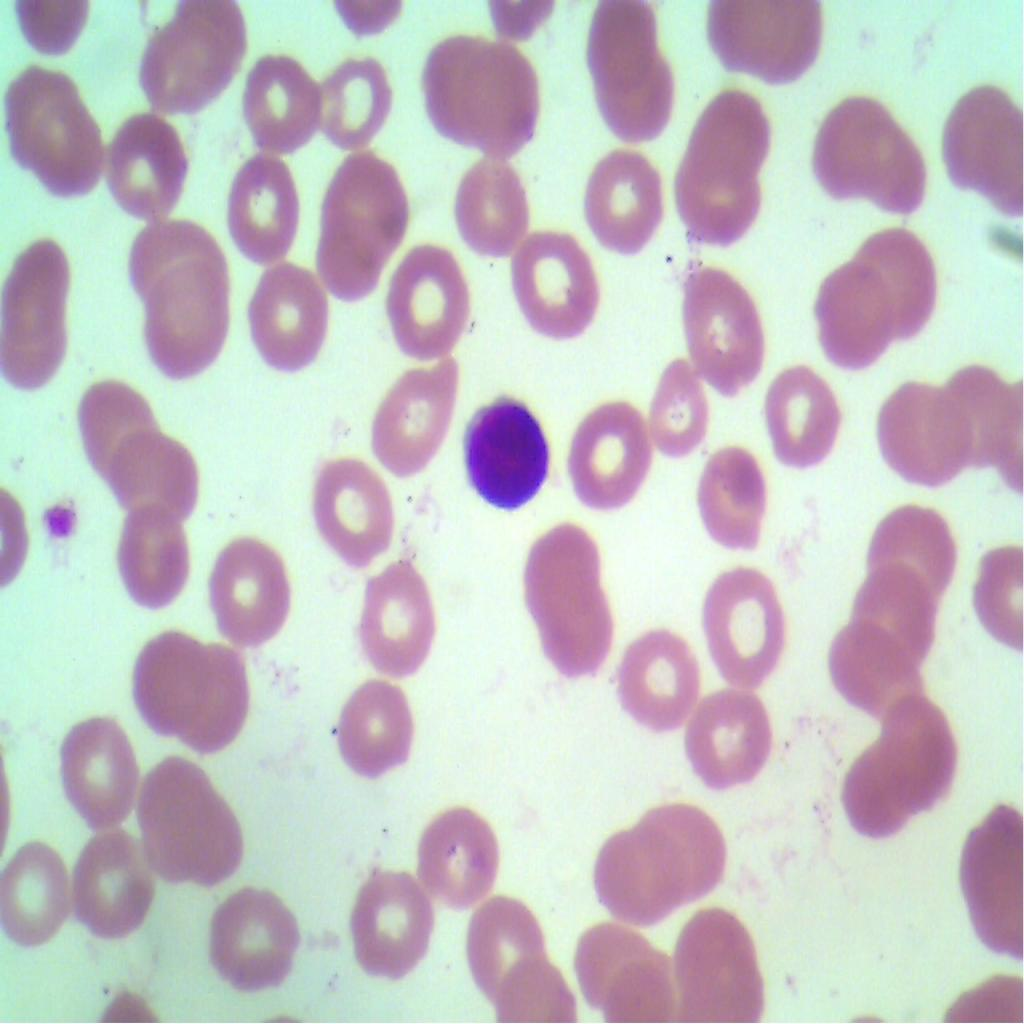Eritrosit: (199, 874, 308, 1002), (144, 755, 246, 889), (506, 221, 606, 355), (696, 554, 794, 690), (206, 528, 306, 660), (358, 352, 461, 478), (90, 98, 198, 216), (378, 237, 476, 364), (456, 872, 554, 998), (675, 268, 769, 397), (671, 897, 766, 1023), (235, 251, 331, 374), (344, 862, 441, 983), (126, 14, 238, 118), (349, 550, 439, 678), (216, 148, 313, 265), (306, 144, 415, 247), (871, 376, 963, 497), (866, 684, 966, 794), (562, 396, 648, 522), (578, 140, 664, 266), (304, 452, 398, 566), (688, 429, 770, 559), (758, 365, 852, 478), (228, 48, 322, 159), (666, 140, 759, 250), (146, 264, 235, 378), (123, 207, 226, 305), (570, 914, 680, 1005), (850, 224, 940, 335), (323, 675, 415, 782), (680, 81, 778, 180), (822, 617, 918, 718), (861, 495, 955, 598), (78, 818, 154, 945), (618, 617, 698, 734), (58, 714, 140, 828), (590, 48, 681, 150), (466, 48, 548, 159), (934, 351, 1008, 474), (843, 559, 931, 660), (0, 844, 86, 947), (126, 616, 208, 724), (449, 150, 528, 262), (944, 82, 1023, 192), (410, 805, 494, 908), (515, 515, 604, 612), (642, 799, 726, 900), (111, 498, 191, 604), (834, 738, 914, 844), (816, 257, 890, 371), (686, 692, 772, 790), (594, 829, 680, 927), (168, 647, 251, 748), (419, 29, 491, 145), (812, 94, 890, 201), (6, 61, 84, 165), (33, 105, 108, 211), (854, 130, 932, 231), (956, 807, 1023, 924), (113, 426, 201, 515), (313, 51, 399, 142), (728, 0, 817, 87), (538, 597, 618, 690), (0, 288, 74, 388), (74, 374, 155, 465), (639, 364, 715, 458), (311, 216, 384, 308), (578, 2, 659, 81), (498, 945, 576, 1023), (6, 235, 72, 319)
Limfoblast: (458, 382, 558, 514)
Platelet: (43, 490, 79, 554)
